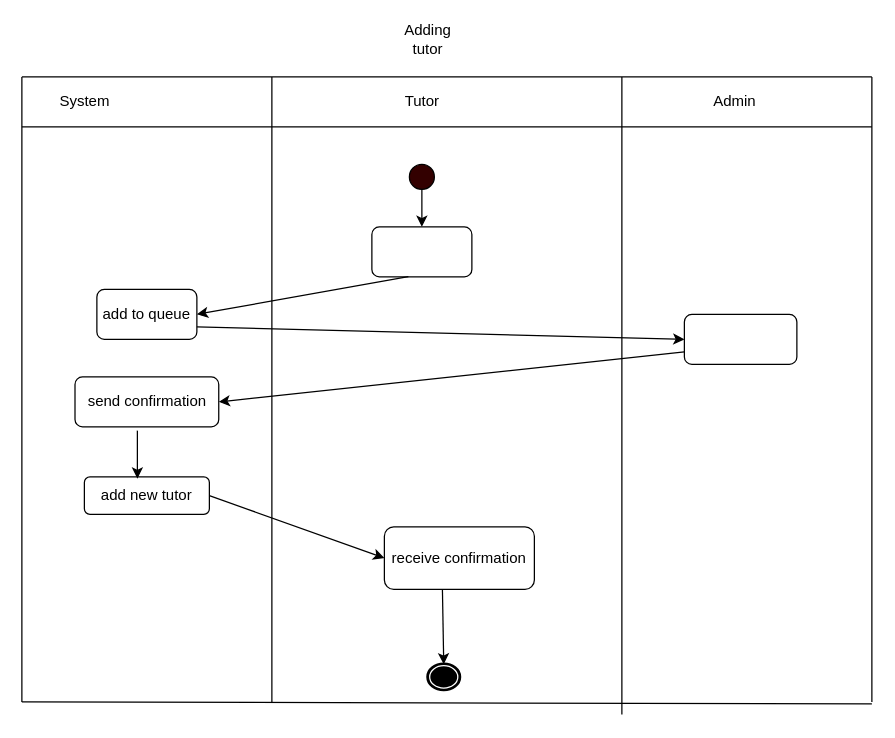
The diagram is 895 pixels wide and 738 high, and some of its shapes have lost their labels. The shapes that lost their labels are listed below. From the top down, each one's centre as x and y in pixels, then its label:
At point 421,251: "apply as tutor".
At point 740,338: "Verify document".
